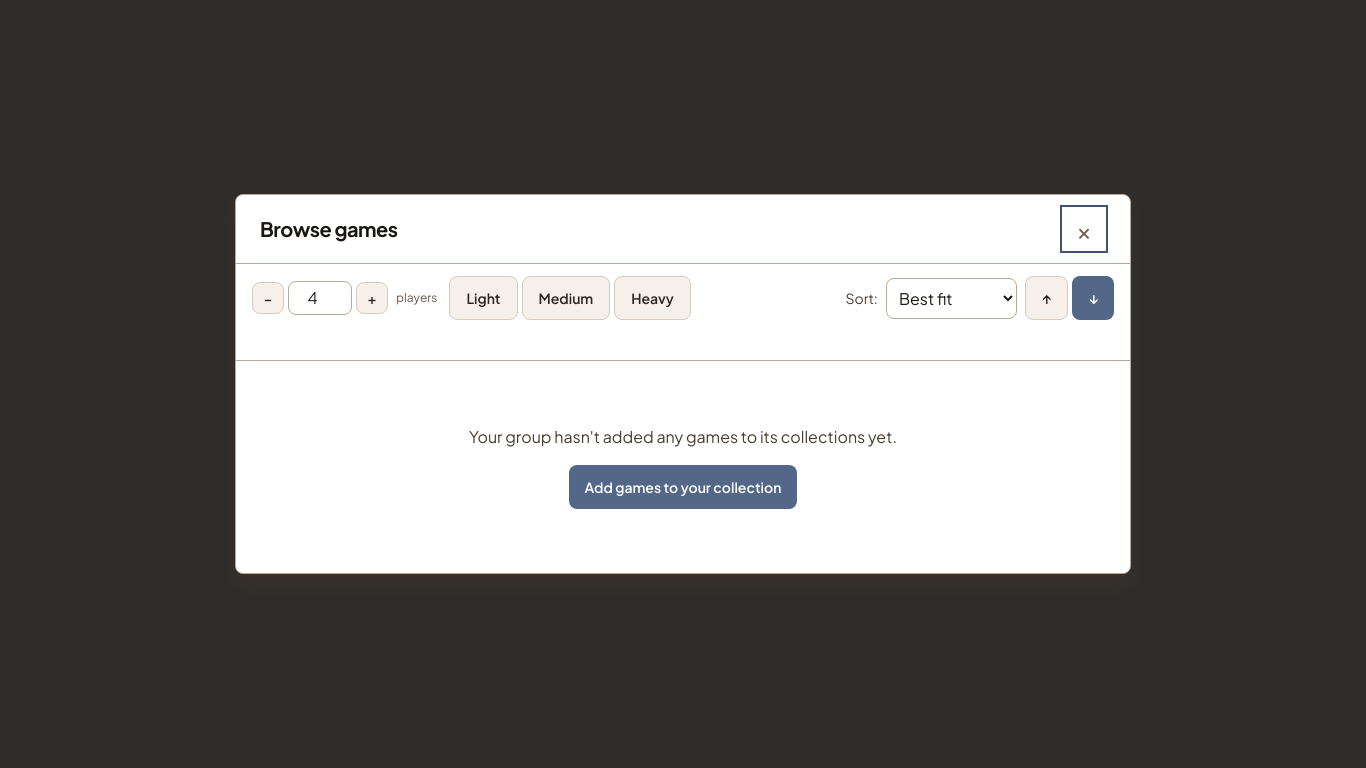
BrowseMoreModal refresh keeps the list (88.6.1-32, D-09, D-41, AC-27, E8) › D2: a failed refresh over an EMPTY result shows the body alert only, no empty state (owner ruling D11 (b))
Expected: the link "Add games to your collection" is shown, [569,465,797,509]
Click the button named "Increase player count".
click(372, 298)  # box [356,282,388,314]
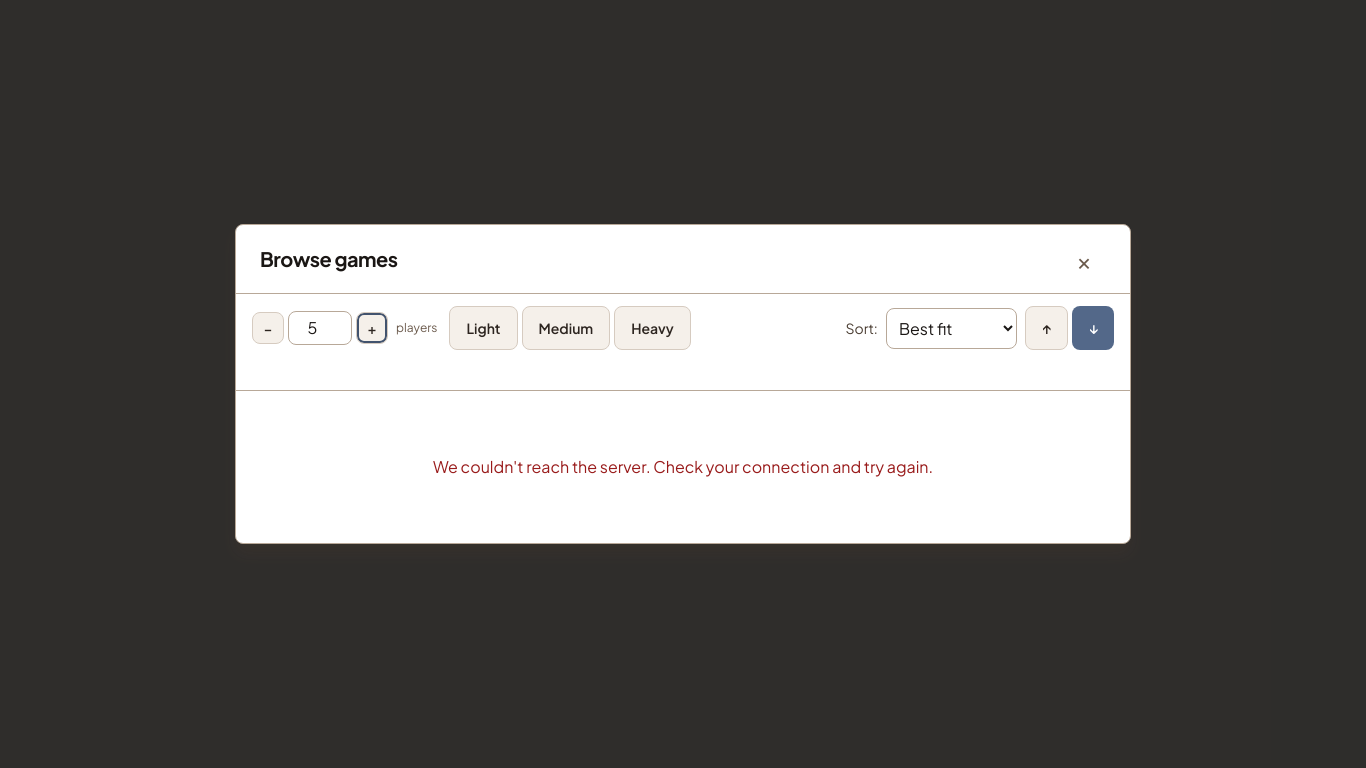
Now the text "Your group hasn't added any games to its collections yet." is gone
Now the link "Add games to your collection" is gone
Now the text "We couldn't reach the server. Check your connection and try again." is shown once, box [433,456,933,477]
